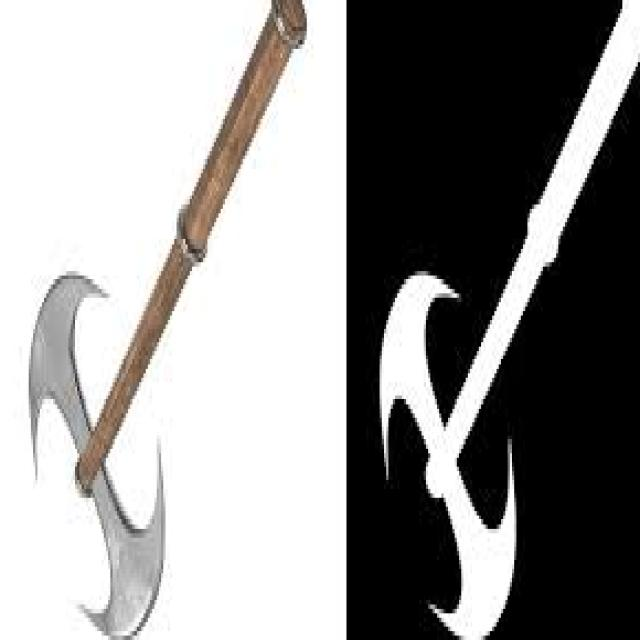Gun: (30, 0, 322, 631), (357, 1, 640, 636)
